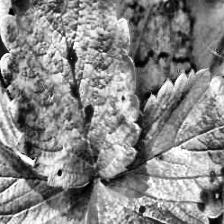Leaf Spot: (0, 0, 142, 190), (83, 67, 224, 224), (0, 122, 95, 223)
